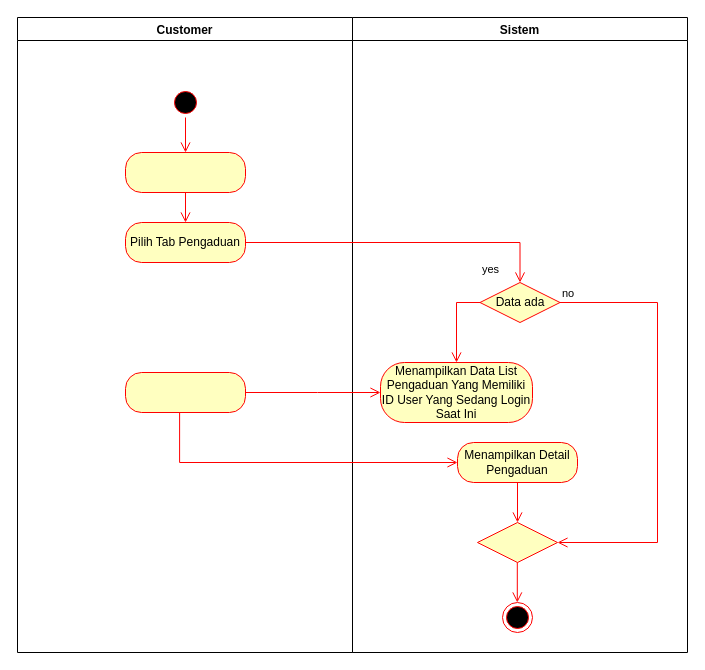
Image size: 705x670. Some labels were removed from this diagram. Each missing label, with the centre of its shape:
"Cek Detail Pengaduan" belongs at point 185,392.
"Login" belongs at point 185,172.
"Merge" belongs at point 517,542.
